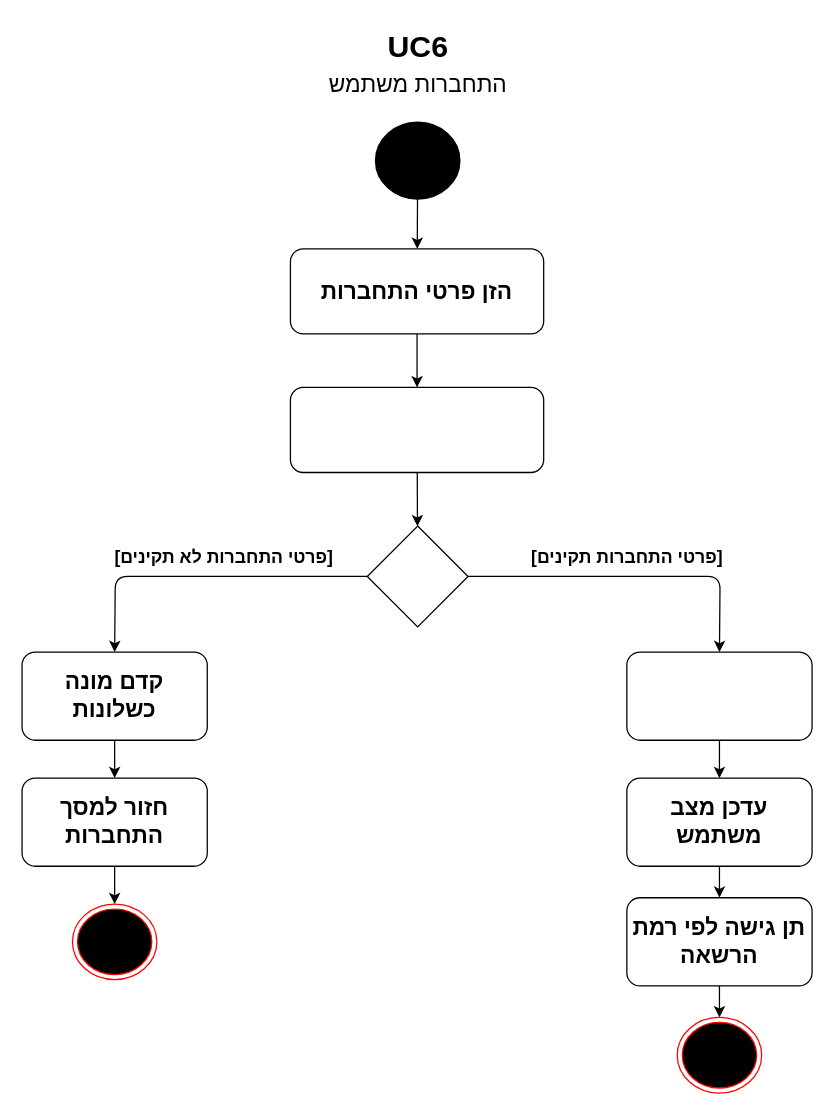
This 834x1115 diagram has some shape labels left out. The shapes that lost their labels are listed below. From the top down, each one's centre as x and y in pixels, then its label:
[416,429]: וודא פרטי התחברות תקינים
[719,695]: אפס מונה כשלונות
